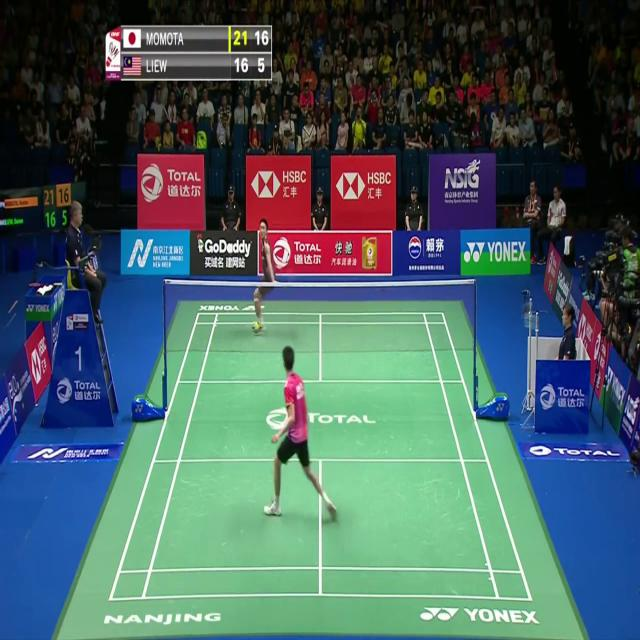Shuttlecock: (227, 245, 233, 256)
